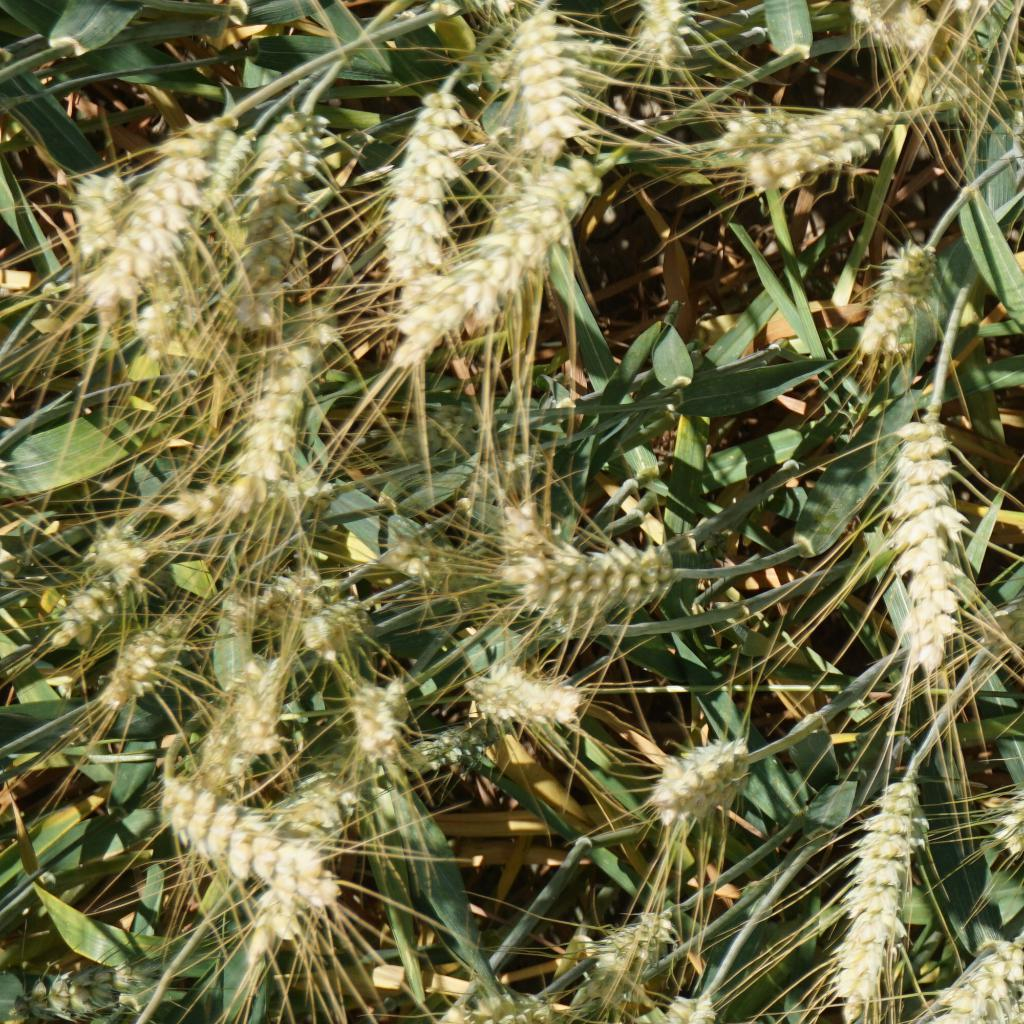0-0: (70, 95, 266, 318), (435, 159, 616, 293), (879, 412, 968, 657), (264, 764, 368, 946), (835, 775, 909, 1008), (497, 506, 621, 638), (138, 781, 302, 879), (498, 1, 595, 153), (389, 82, 458, 279), (254, 309, 331, 478), (367, 527, 507, 615), (250, 114, 318, 295), (851, 238, 939, 372), (173, 472, 353, 535), (513, 536, 677, 604), (757, 112, 893, 183), (60, 544, 156, 644), (634, 729, 755, 806), (467, 656, 587, 722), (201, 673, 288, 764), (98, 620, 178, 711), (840, 0, 947, 66), (55, 161, 137, 244), (455, 438, 565, 495), (947, 940, 1022, 1022), (34, 965, 156, 1014), (346, 679, 414, 760), (232, 568, 330, 623), (688, 102, 778, 156), (595, 908, 683, 962), (116, 284, 195, 344), (380, 404, 471, 456), (622, 0, 695, 59), (983, 553, 1024, 649), (990, 734, 1024, 841), (930, 59, 992, 117), (415, 722, 483, 771), (300, 598, 364, 650), (650, 987, 727, 1024), (70, 525, 147, 558), (461, 991, 528, 1024)
